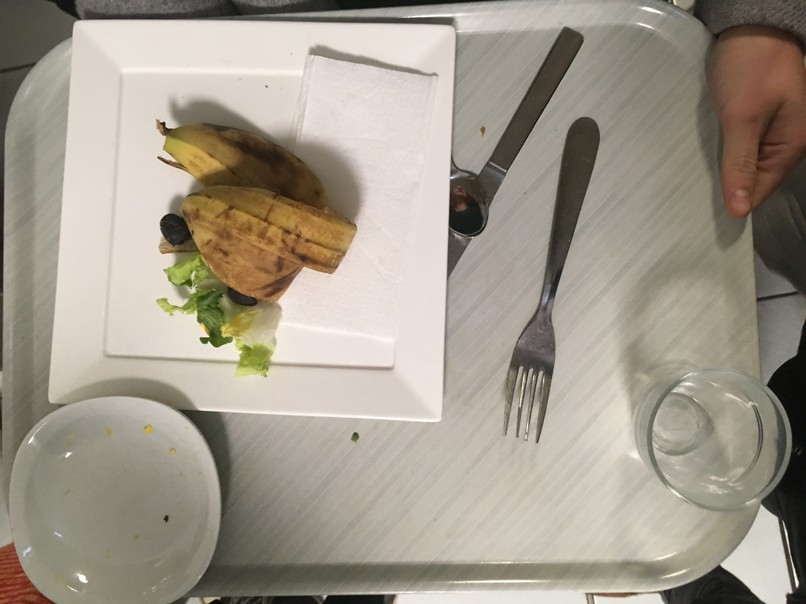cup: (629, 345, 796, 537)
cutlery: (495, 96, 611, 451), (446, 156, 497, 272)
orga: (156, 119, 358, 295), (151, 248, 277, 377)
trash: (295, 50, 440, 348)
